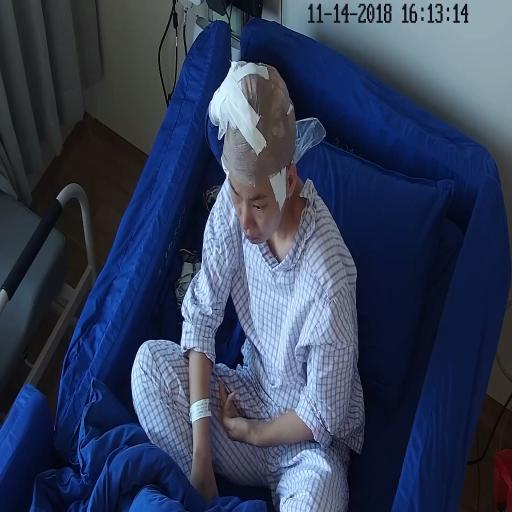Seizure: (222, 109, 290, 252)
